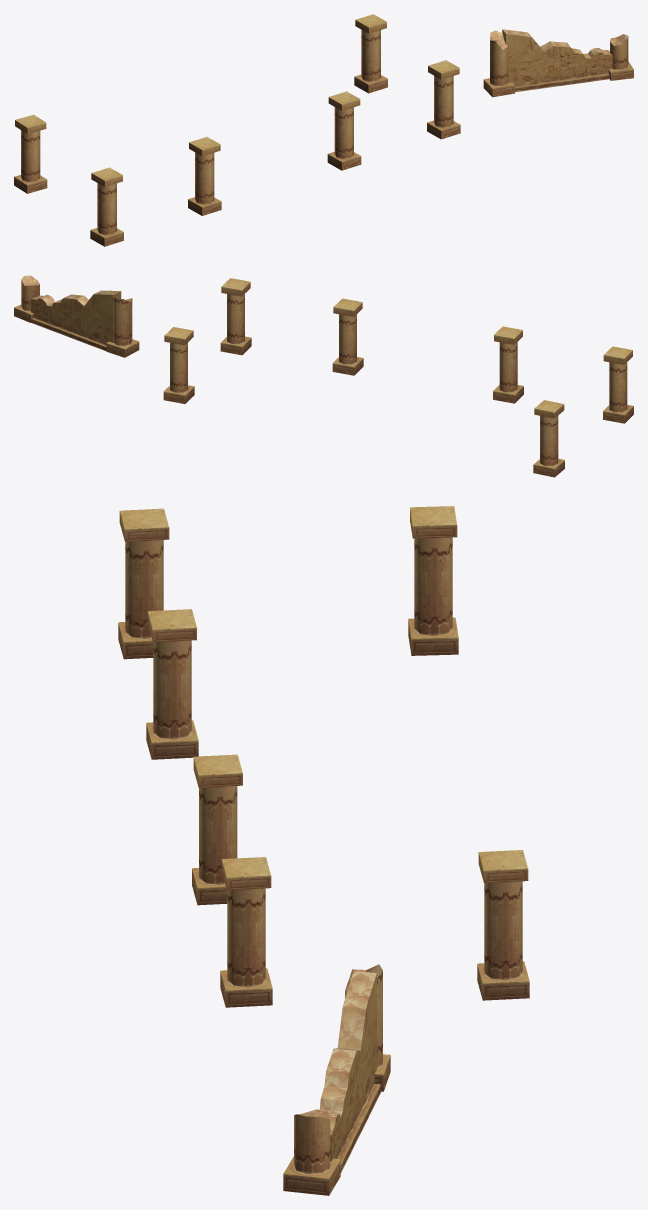
Rendered from Area_14_27.fbx.
The picture shows the model from 3 angles, top to bottom: view 1: azimuth 30°, elevation 25°; view 2: azimuth 150°, elevation 25°; view 3: azimuth 270°, elevation 25°; orthographic projection. The views are drawn at different scales.
Parts seen in each view (by area): view 1: Area_14_27; view 2: Area_14_27; view 3: Area_14_27.
Part boxes in pixels (x1,y1,x2,y2): Area_14_27: (14, 14, 633, 246); Area_14_27: (14, 275, 633, 477); Area_14_27: (118, 506, 529, 1195).
Bounding box in the file's own units: 3795 × 419 × 1182.
